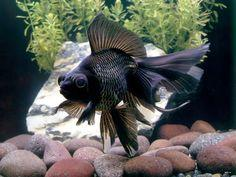goldfish: (55, 24, 195, 137)
